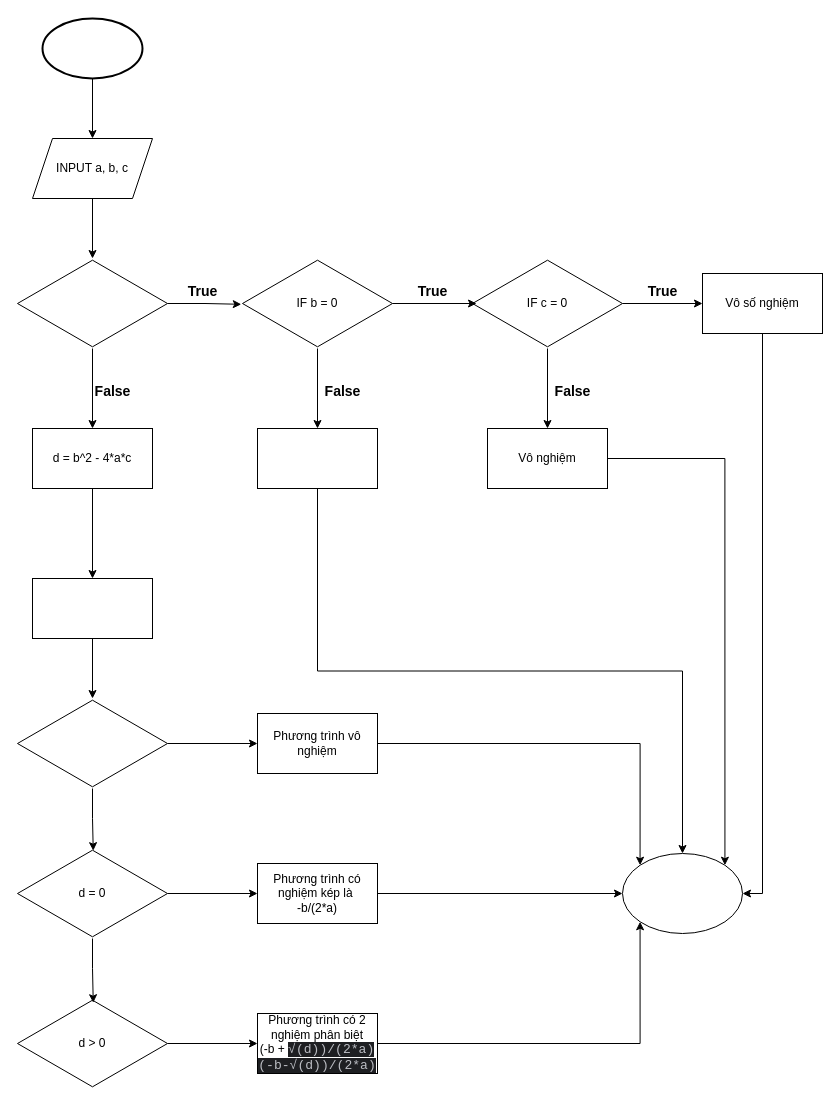
This 840x1106 diagram has some shape labels left out. Here are the shapes that lost their labels. From the top down, the centre of each, then its label:
At (92,48): "START".
At (92,303): "IF a = 0".
At (317,458): "Nghiệm duy nhất x = -c/b".
At (92,608): "Switch d".
At (92,743): "d < 0".
At (682,893): "END".
